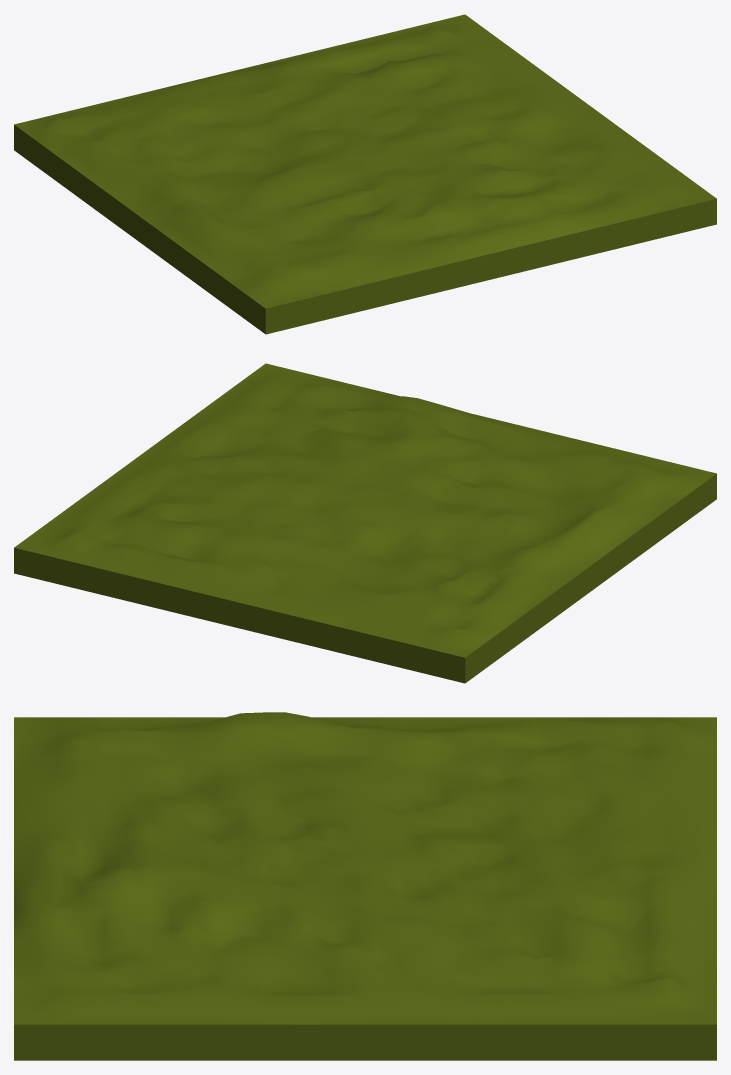
Rendered from Ground_Grassy.fbx.
The picture shows the model from 3 angles, top to bottom: view 1: azimuth 30°, elevation 25°; view 2: azimuth 150°, elevation 25°; view 3: azimuth 270°, elevation 25°; orthographic projection. The views are drawn at different scales.
Parts seen in each view (by area): view 1: Box1378; view 2: Box1378; view 3: Box1378.
Boxes of the visible parts, x1,y1,x2,y2 form: Box1378: (14, 14, 716, 334); Box1378: (14, 363, 716, 683); Box1378: (14, 712, 716, 1060).
Size of the model in its own units: 396 by 36.33 by 383.
